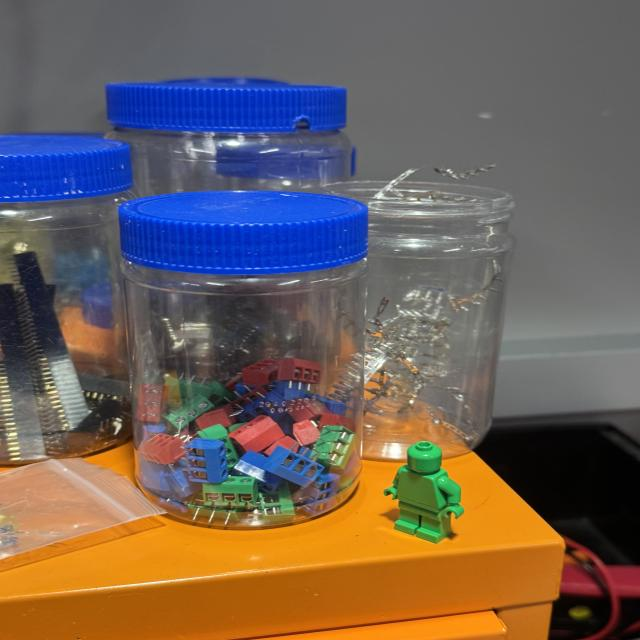Green Mini Figure: (383, 441, 464, 543)
